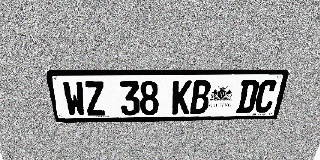3: (119, 81, 140, 115)
8: (140, 81, 159, 115)
B: (190, 80, 212, 114)
C: (253, 80, 279, 113)
D: (236, 80, 260, 113)
K: (171, 80, 192, 114)
W: (62, 81, 87, 116)
Z: (83, 81, 106, 116)
